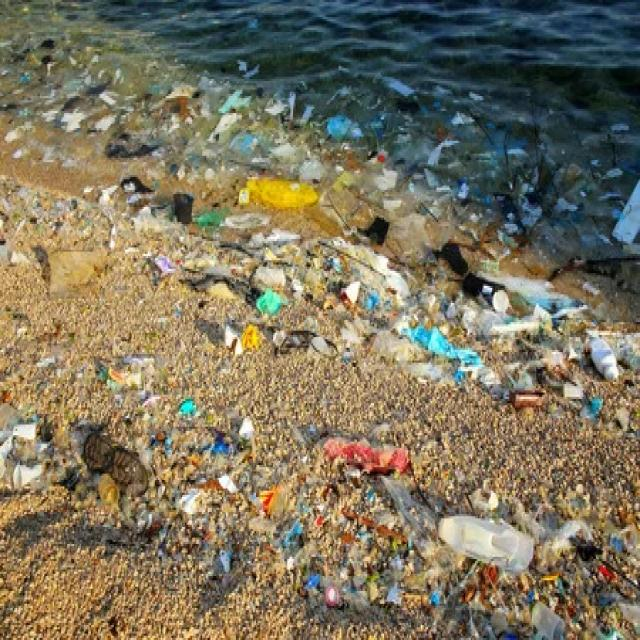garbage: (9, 145, 640, 640)
